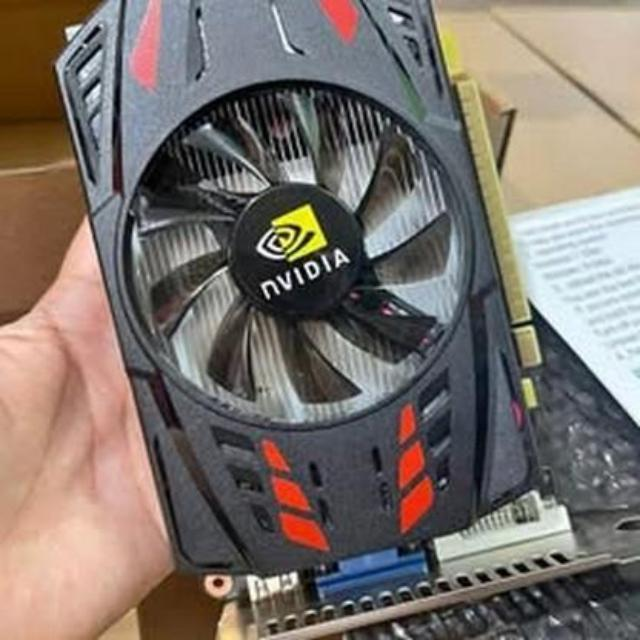GPU: (52, 0, 574, 640)
